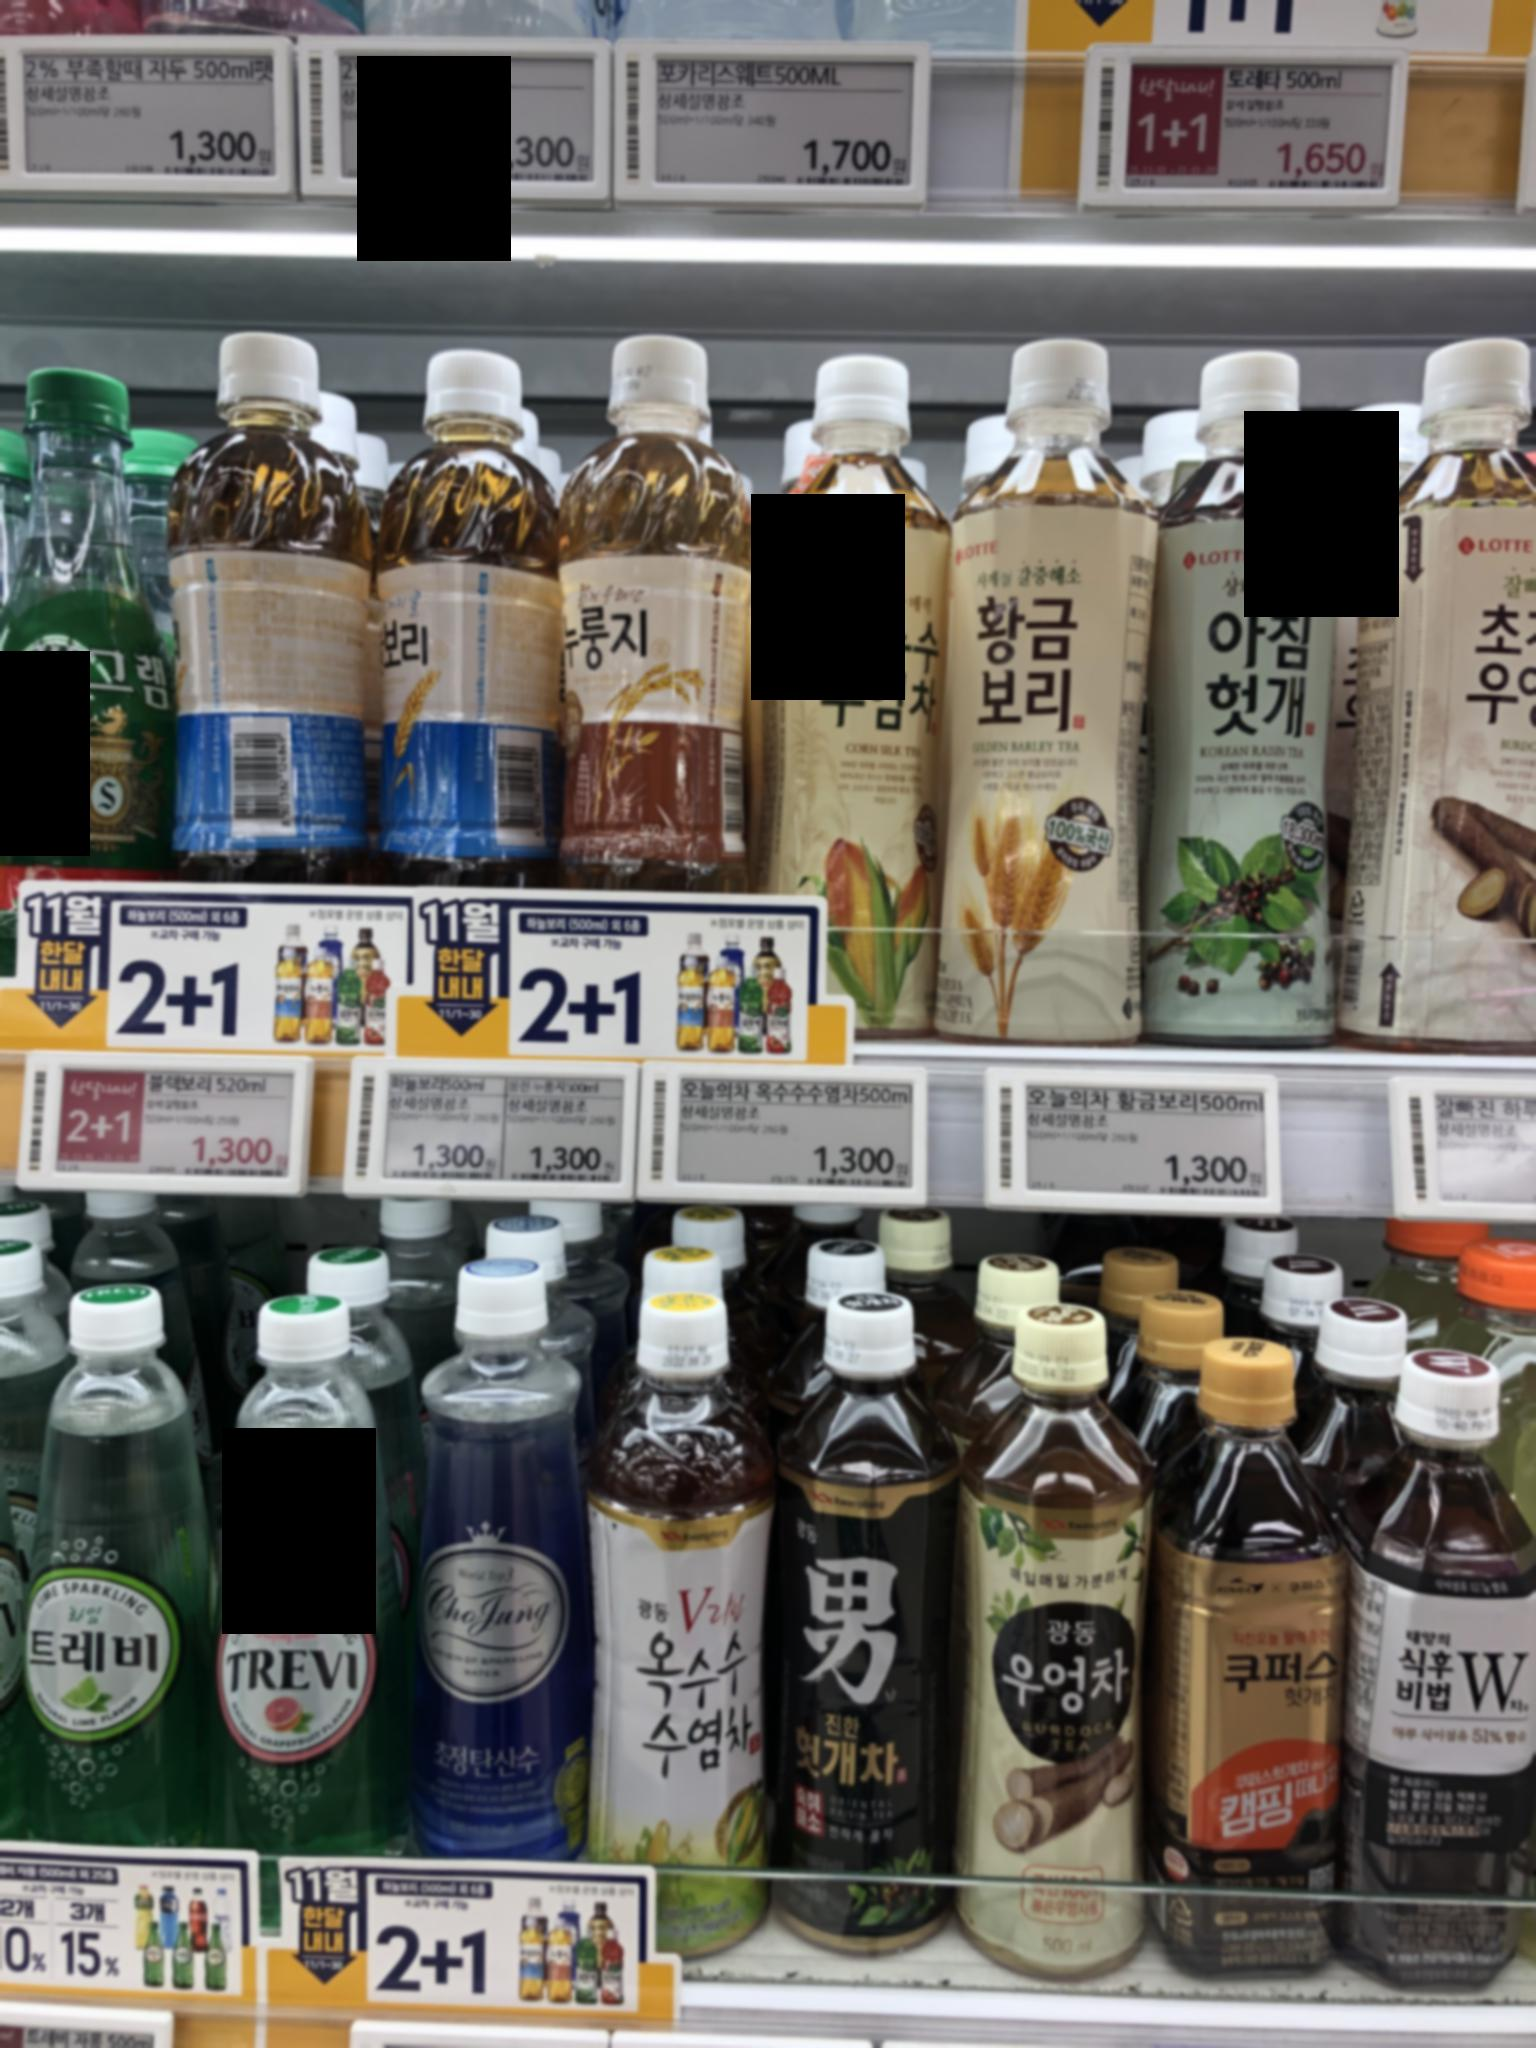haneulbori: (160, 314, 363, 866), (387, 335, 568, 864)
heotgaecha: (799, 1290, 955, 1959)
oksususuyeomcha: (592, 1264, 752, 1877)
